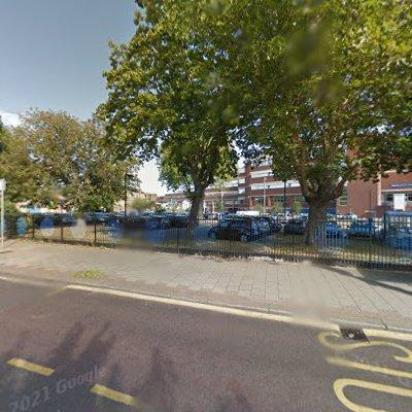stationary-car-offstreet: (206, 217, 260, 245), (346, 219, 378, 238), (166, 212, 196, 228), (283, 217, 309, 235), (246, 217, 270, 233), (324, 220, 342, 238), (264, 215, 281, 231)
